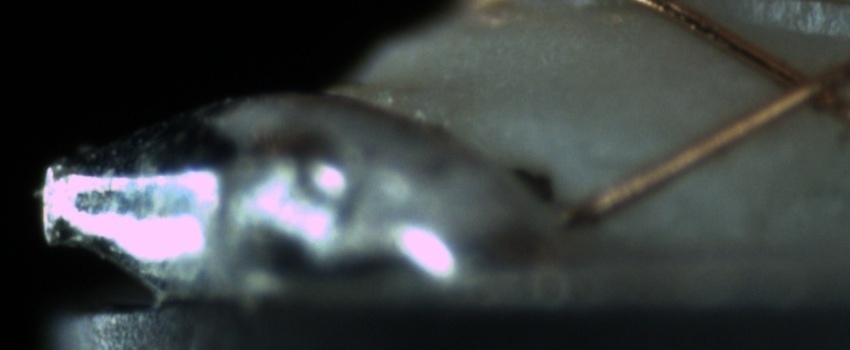CL: (752, 49, 843, 122)
